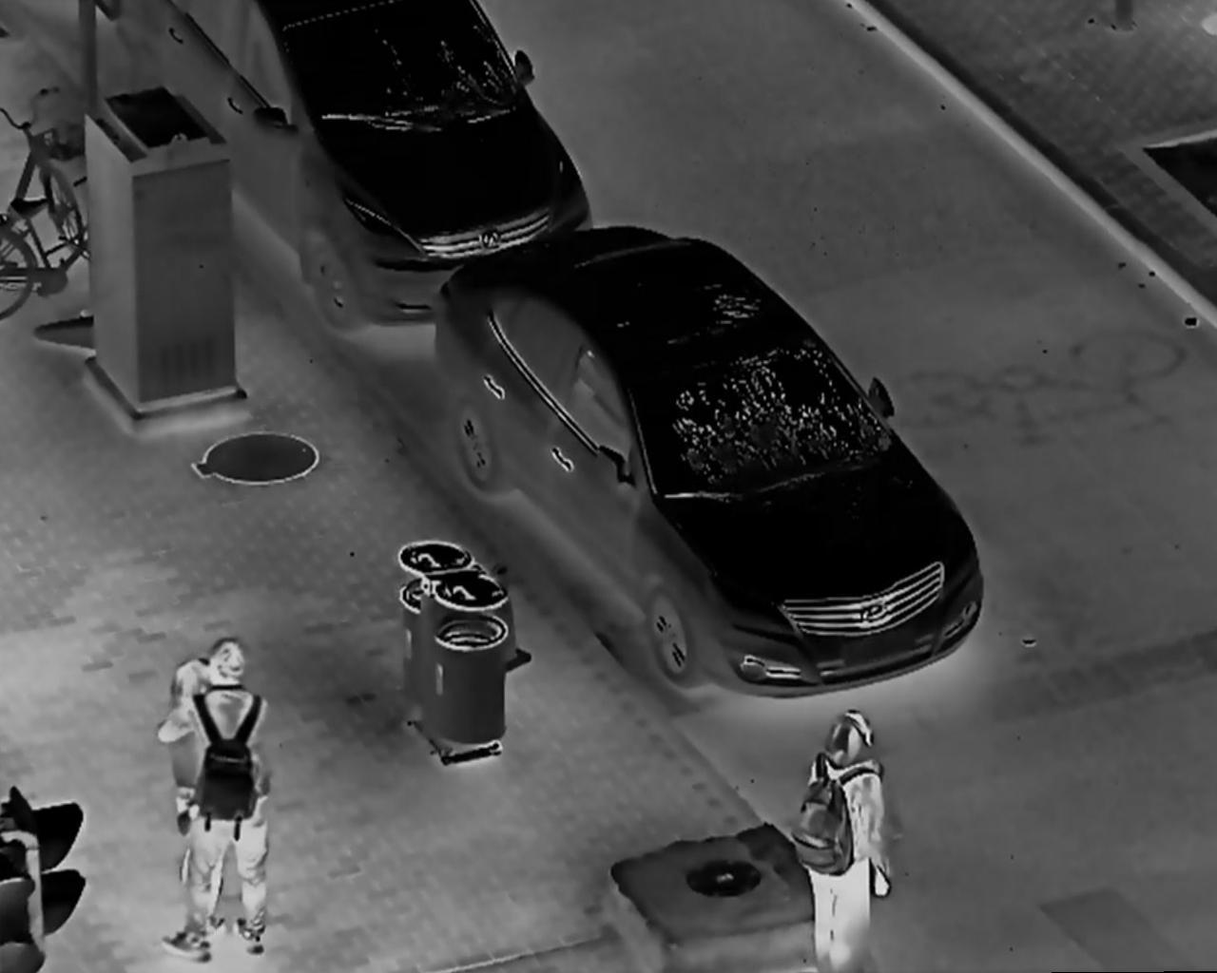person: (155, 635, 276, 961), (158, 654, 255, 938), (797, 704, 896, 973)
